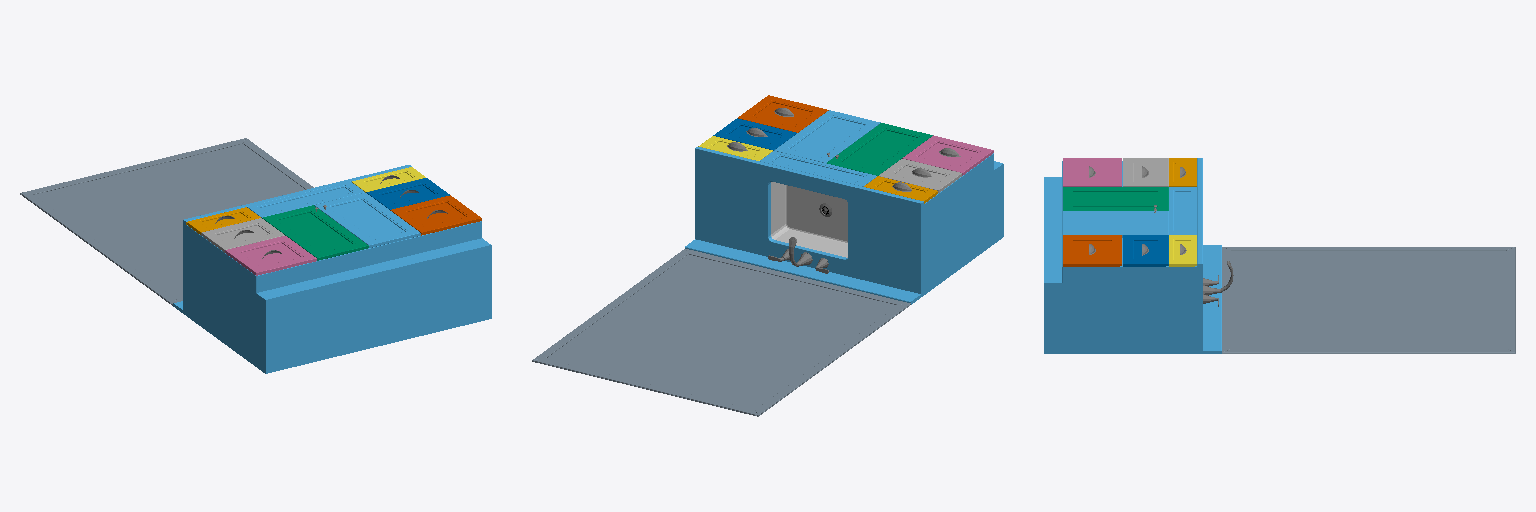
The robot description file, URDF, robot "s__1132":
<robot name="s__1132">


	<link name="0:virtual">
		<visual>
			<origin xyz="0.0 0.0 0.0" rpy="0 0 0"/>
			<geometry>
				<cylinder length="0" radius="0"/>
			</geometry>
		</visual>
	</link>


	<link name="1:static">
		<visual>
			<origin xyz="-0.0 -0.0 -0.0" rpy="0 0 0"/>
			<geometry>
				<mesh filename="../raw_data/s__1132/part_meshes/1.dae" />
			</geometry>
		</visual>
	</link>


	<link name="2:cabinet door 1">
		<visual>
			<origin xyz="0.3105000073909756 -0.399999987334013 -0.2645560029745102" rpy="0 0 0"/>
			<geometry>
				<mesh filename="../raw_data/s__1132/part_meshes/2.dae" />
			</geometry>
		</visual>
	</link>


	<link name="3:drawer 1">
		<visual>
			<origin xyz="-0.5149999856948853 -0.7800000011920929 0.014219507575035095" rpy="0 0 0"/>
			<geometry>
				<mesh filename="../raw_data/s__1132/part_meshes/3.dae" />
			</geometry>
		</visual>
	</link>


	<link name="4:drawer 2">
		<visual>
			<origin xyz="-0.5149999856948853 -0.5699999928474426 0.014219507575035095" rpy="0 0 0"/>
			<geometry>
				<mesh filename="../raw_data/s__1132/part_meshes/4.dae" />
			</geometry>
		</visual>
	</link>


	<link name="5:drawer 3">
		<visual>
			<origin xyz="-0.5149999856948853 -0.26999999210238457 0.014219507575035095" rpy="0 0 0"/>
			<geometry>
				<mesh filename="../raw_data/s__1132/part_meshes/5.dae" />
			</geometry>
		</visual>
	</link>


	<link name="6:drawer 4">
		<visual>
			<origin xyz="0.5149999856948853 -0.26999999210238457 0.014219507575035095" rpy="0 0 0"/>
			<geometry>
				<mesh filename="../raw_data/s__1132/part_meshes/6.dae" />
			</geometry>
		</visual>
	</link>


	<link name="7:drawer 5">
		<visual>
			<origin xyz="0.5149999856948853 -0.5699999928474426 0.014219507575035095" rpy="0 0 0"/>
			<geometry>
				<mesh filename="../raw_data/s__1132/part_meshes/7.dae" />
			</geometry>
		</visual>
	</link>


	<link name="8:drawer 6">
		<visual>
			<origin xyz="0.5149999856948853 -0.7800000011920929 0.014219507575035095" rpy="0 0 0"/>
			<geometry>
				<mesh filename="../raw_data/s__1132/part_meshes/8.dae" />
			</geometry>
		</visual>
	</link>


	<joint name="0:virtual::1:static" type="fixed">
		<parent link="0:virtual"/>
		<child link="1:static"/>
		<origin xyz="0.0 0.0 0.0" rpy="0 0 0"/>
	</joint>


	<joint name="0:virtual::2:cabinet door 1_rotation" type="revolute">
		<parent link="0:virtual"/>
		<child link="2:cabinet door 1"/>
		<origin xyz="-0.3105000073909756 0.399999987334013 0.2645560029745102" rpy="0 0 0"/>
		<limit lower="-2.827433388230814" upper="0.0" effort="10" velocity="3"/>
		<axis xyz="0.0 1.0 0.0"/>
	</joint>


	<joint name="0:virtual::3:drawer 1_translation" type="prismatic">
		<parent link="0:virtual"/>
		<child link="3:drawer 1"/>
		<origin xyz="0.5149999856948853 0.7800000011920929 -0.014219507575035095" rpy="0 0 0"/>
		<limit lower="-0.000333972454071" upper="0.280666027545929" effort="10" velocity="3"/>
		<axis xyz="0.0 0.0 1.0"/>
	</joint>


	<joint name="0:virtual::4:drawer 2_translation" type="prismatic">
		<parent link="0:virtual"/>
		<child link="4:drawer 2"/>
		<origin xyz="0.5149999856948853 0.5699999928474426 -0.014219507575035095" rpy="0 0 0"/>
		<limit lower="-0.000333972454071" upper="0.280666027545929" effort="10" velocity="3"/>
		<axis xyz="0.0 0.0 1.0"/>
	</joint>


	<joint name="0:virtual::5:drawer 3_translation" type="prismatic">
		<parent link="0:virtual"/>
		<child link="5:drawer 3"/>
		<origin xyz="0.5149999856948853 0.26999999210238457 -0.014219507575035095" rpy="0 0 0"/>
		<limit lower="-0.000333972454071" upper="0.280666027545929" effort="10" velocity="3"/>
		<axis xyz="0.0 0.0 1.0"/>
	</joint>


	<joint name="0:virtual::6:drawer 4_translation" type="prismatic">
		<parent link="0:virtual"/>
		<child link="6:drawer 4"/>
		<origin xyz="-0.5149999856948853 0.26999999210238457 -0.014219507575035095" rpy="0 0 0"/>
		<limit lower="-0.000333972454071" upper="0.280666027545929" effort="10" velocity="3"/>
		<axis xyz="0.0 0.0 1.0"/>
	</joint>


	<joint name="0:virtual::7:drawer 5_translation" type="prismatic">
		<parent link="0:virtual"/>
		<child link="7:drawer 5"/>
		<origin xyz="-0.5149999856948853 0.5699999928474426 -0.014219507575035095" rpy="0 0 0"/>
		<limit lower="-0.000333972454071" upper="0.280666027545929" effort="10" velocity="3"/>
		<axis xyz="0.0 0.0 1.0"/>
	</joint>


	<joint name="0:virtual::8:drawer 6_translation" type="prismatic">
		<parent link="0:virtual"/>
		<child link="8:drawer 6"/>
		<origin xyz="-0.5149999856948853 0.7800000011920929 -0.014219507575035095" rpy="0 0 0"/>
		<limit lower="-0.000333972454071" upper="0.280666027545929" effort="10" velocity="3"/>
		<axis xyz="0.0 0.0 1.0"/>
	</joint>


</robot>

--- Render facts (derived) ---
3 views of the same robot in one strip: view 1: azimuth 30°, elevation 25°; view 2: azimuth 150°, elevation 25°; view 3: azimuth 270°, elevation 25° (orthographic).
Robot: s__1132 — 9 links, 8 joints (1 revolute, 6 prismatic, 1 fixed); root link 0:virtual; default pose: all joints at 0.
Links seen in each view (by area): view 1: 1:static, 2:cabinet door 1, 6:drawer 4, 5:drawer 3, 7:drawer 5, 4:drawer 2, 8:drawer 6, 3:drawer 1; view 2: 1:static, 2:cabinet door 1, 6:drawer 4, 5:drawer 3, 7:drawer 5, 4:drawer 2, 8:drawer 6, 3:drawer 1; view 3: 1:static, 2:cabinet door 1, 5:drawer 3, 6:drawer 4, 4:drawer 2, 7:drawer 5, 3:drawer 1, 8:drawer 6.
Link boxes in pixels (x1,y1,x2,y2): 1:static: (20,138,491,373); 2:cabinet door 1: (262,205,368,260); 6:drawer 4: (225,236,316,275); 5:drawer 3: (390,195,481,235); 7:drawer 5: (201,218,284,252); 4:drawer 2: (366,178,449,209); 8:drawer 6: (186,207,260,234); 3:drawer 1: (352,167,425,192); 1:static: (532,110,1003,416); 2:cabinet door 1: (827,123,932,175); 6:drawer 4: (902,135,993,175); 5:drawer 3: (738,95,828,132); 7:drawer 5: (879,159,961,192); 4:drawer 2: (713,118,796,150); 8:drawer 6: (864,176,937,203); 3:drawer 1: (698,136,772,160); 1:static: (1044,158,1515,353); 2:cabinet door 1: (1063,187,1168,210); 5:drawer 3: (1063,235,1121,266); 6:drawer 4: (1063,158,1121,186); 4:drawer 2: (1123,235,1168,266); 7:drawer 5: (1123,158,1168,186); 3:drawer 1: (1169,235,1196,266); 8:drawer 6: (1169,158,1196,186).
Bounding box of the posed robot: 1.41 × 2.65 × 0.5896 m (x, y, z).
8 mesh visuals loaded from 8 distinct referenced files (8 Collada DAE).